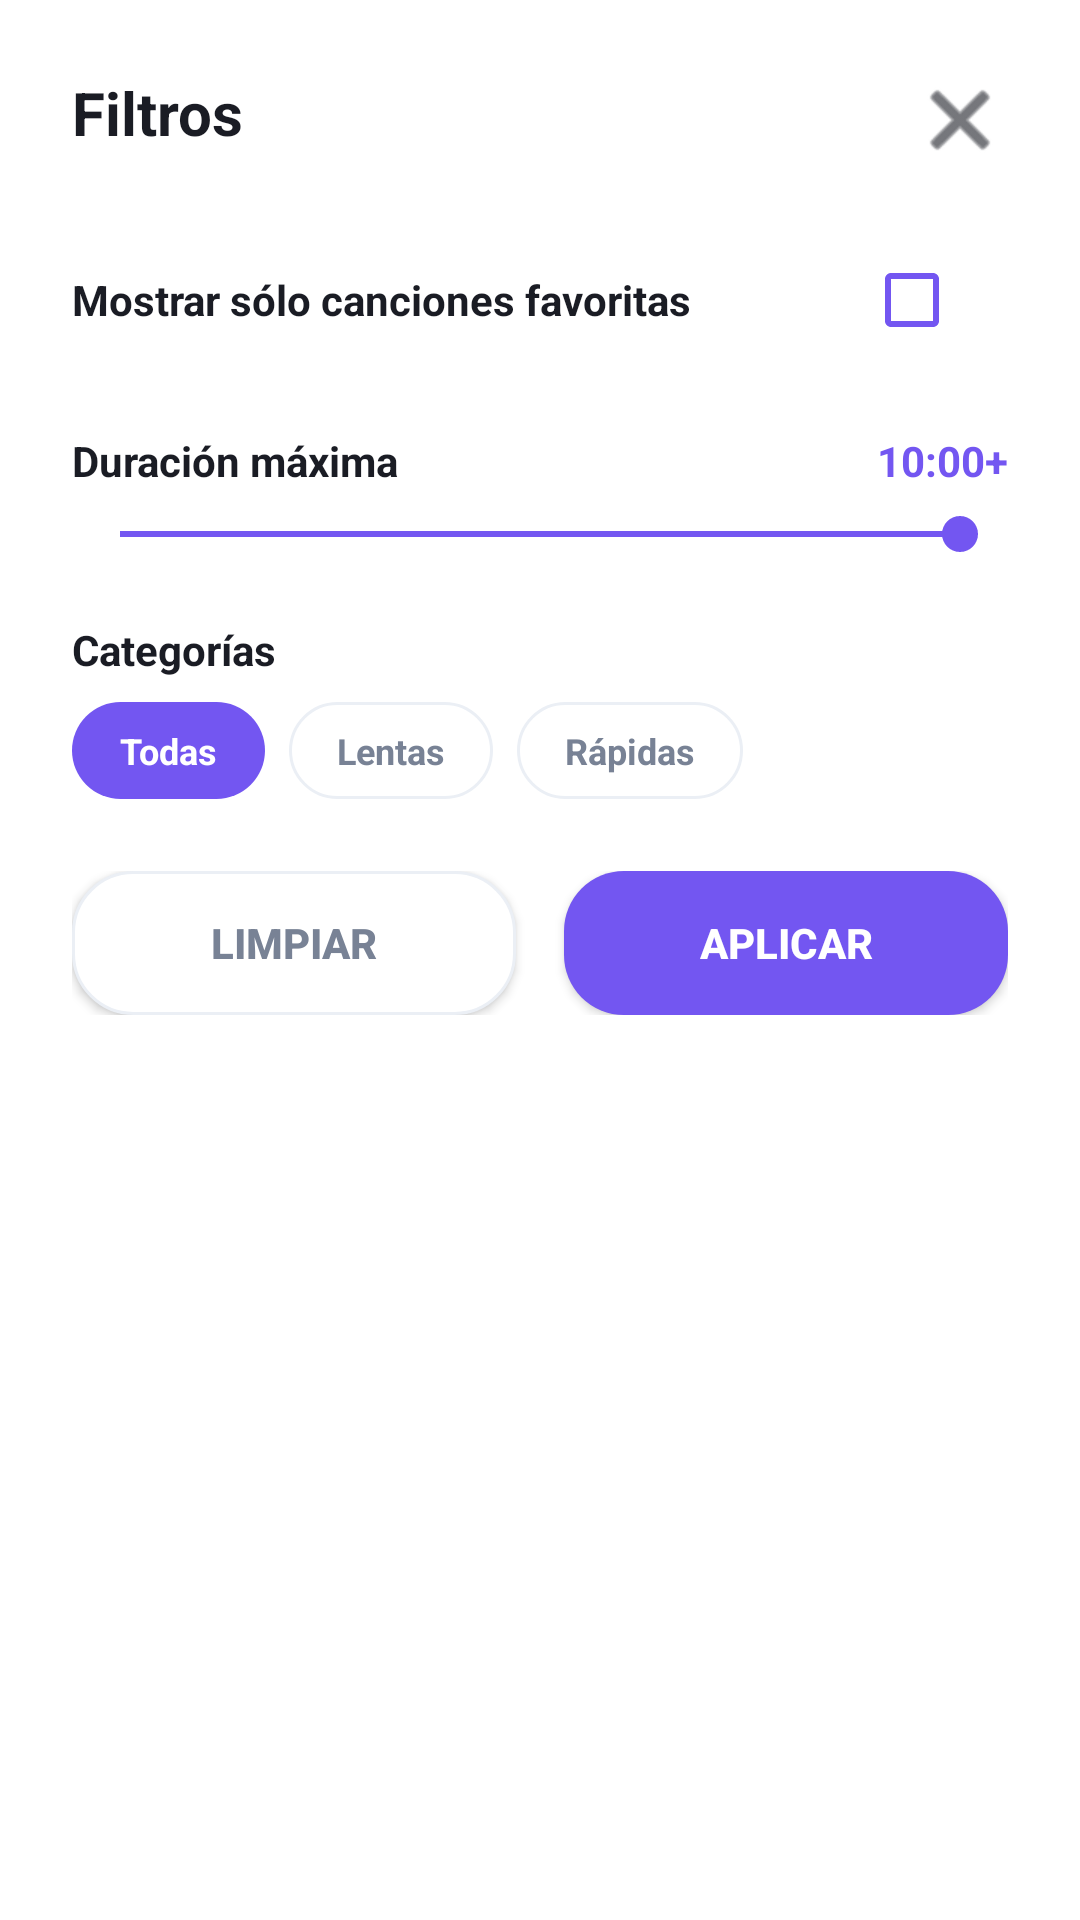

Icon bounding boxes for this 1080px×1920px phone screenshot, format bbox=[x1, y1, x2, y2]:
Cerrar: bbox=[930, 90, 990, 150]
